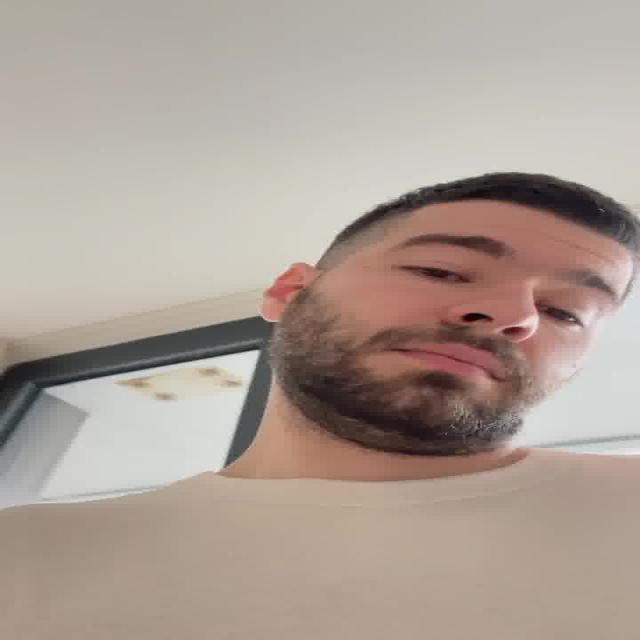earlobe: (260, 262, 312, 323)
